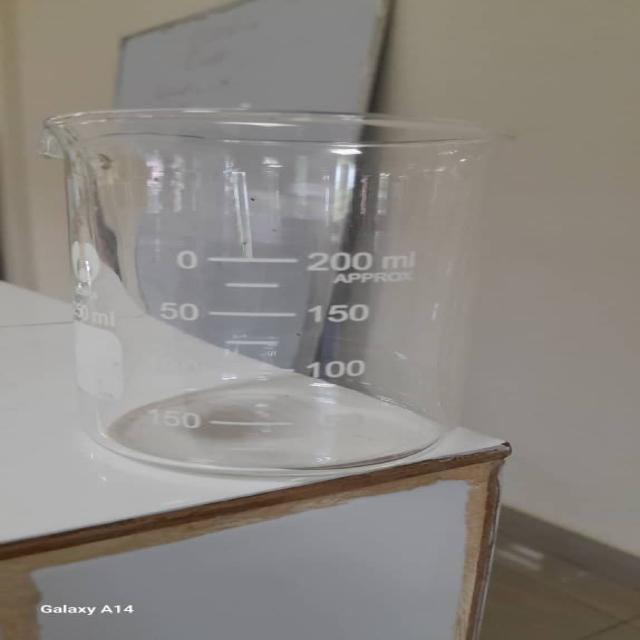Beakers: (32, 104, 526, 480)
